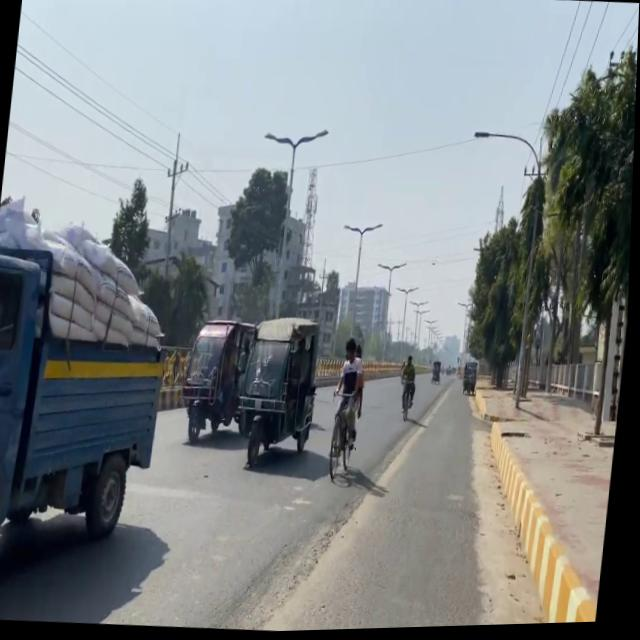Construction-barrier: (491, 459, 615, 628), (260, 487, 359, 634)
Fallen-tree: (399, 381, 418, 423), (433, 373, 444, 386)
Garbage-bin: (330, 338, 371, 451), (399, 356, 420, 411)
Pothole: (405, 368, 624, 630)
Traffic-cone: (0, 183, 186, 602), (232, 313, 326, 473), (177, 316, 260, 449)
